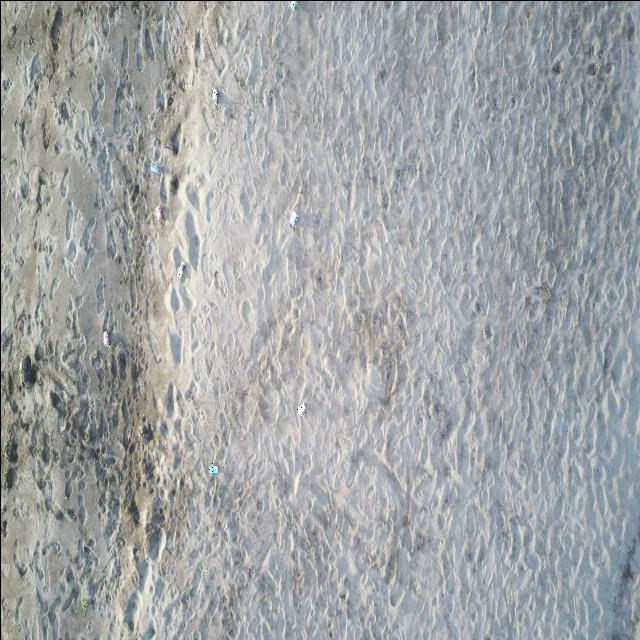Garbage: (176, 261, 186, 278), (289, 210, 298, 227), (156, 206, 163, 223), (103, 329, 110, 346), (151, 163, 160, 175), (212, 88, 218, 104), (208, 465, 216, 475), (296, 403, 304, 413), (291, 0, 299, 8)
